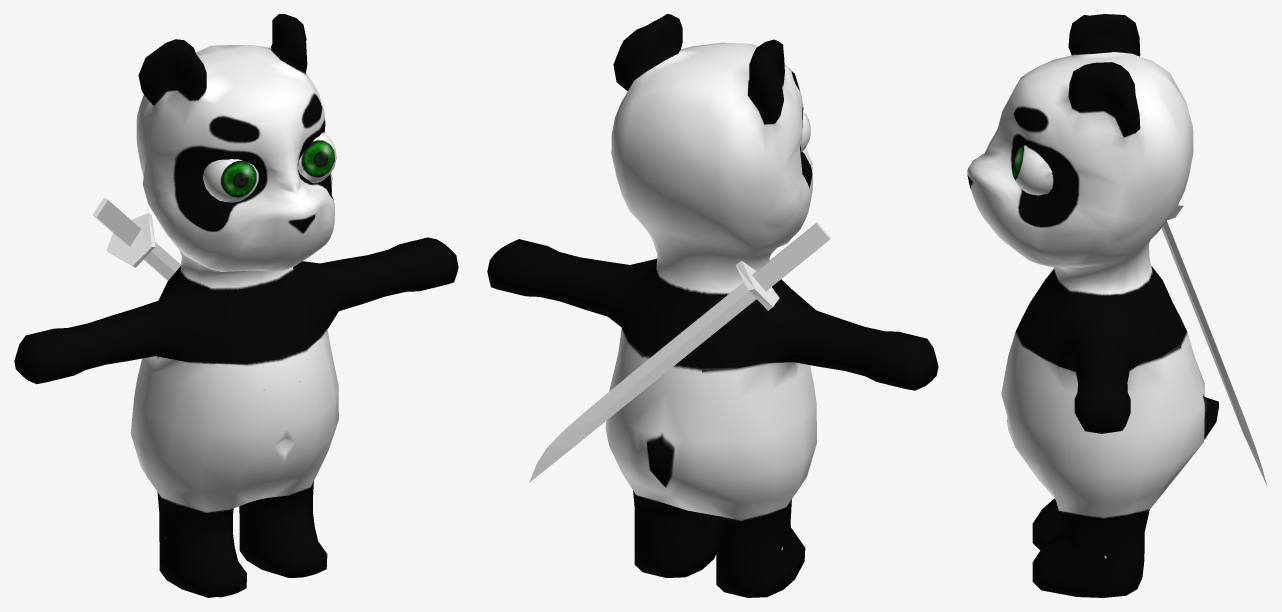
Rendered from Panda_oneMesh.FBX.
3 renders of one model, left to right at view 1: azimuth 30°, elevation 25°; view 2: azimuth 150°, elevation 25°; view 3: azimuth 270°, elevation 25°, orthographic. The views are drawn at different scales.
Visible parts, largest first — view 1: Sphere004; view 2: Sphere004; view 3: Sphere004.
Boxes of the visible parts, bbox=[...] form: Sphere004: bbox=[14, 14, 458, 597]; Sphere004: bbox=[487, 14, 938, 597]; Sphere004: bbox=[967, 14, 1267, 597].
Bounding box in the file's own units: 64.3 × 76.07 × 39.46.
Materials: 1 (1 with a texture image).
